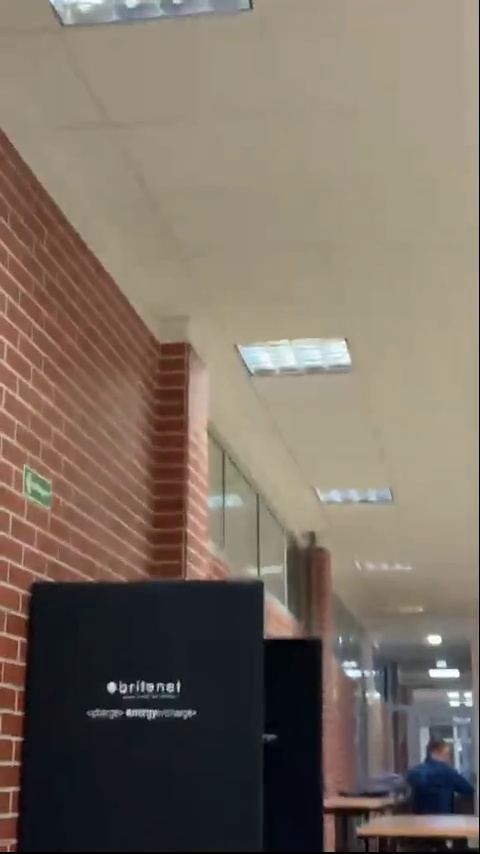no vest: (403, 741, 466, 818)
